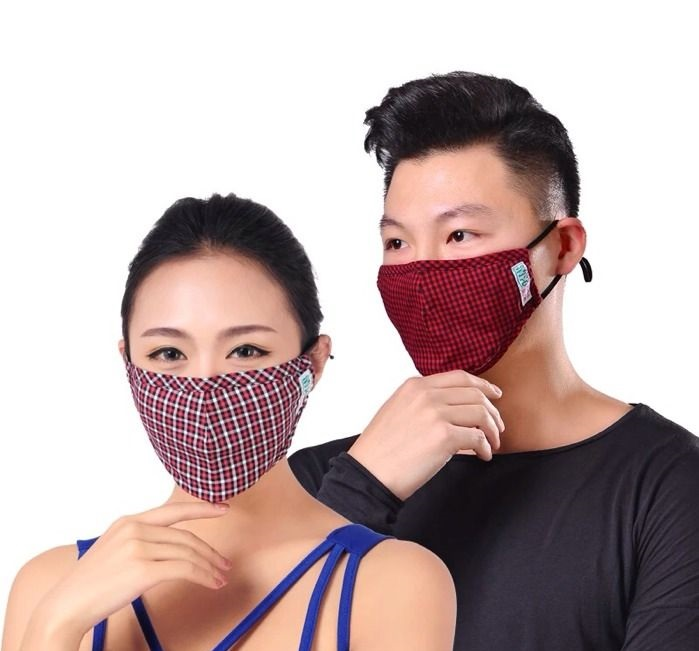face_mask: (125, 255, 302, 483), (376, 148, 545, 364)
